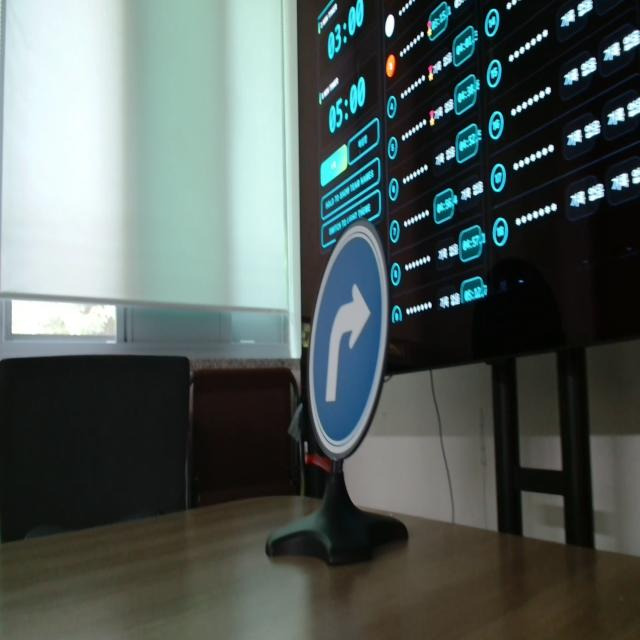right_dierection: (308, 225, 388, 457)
